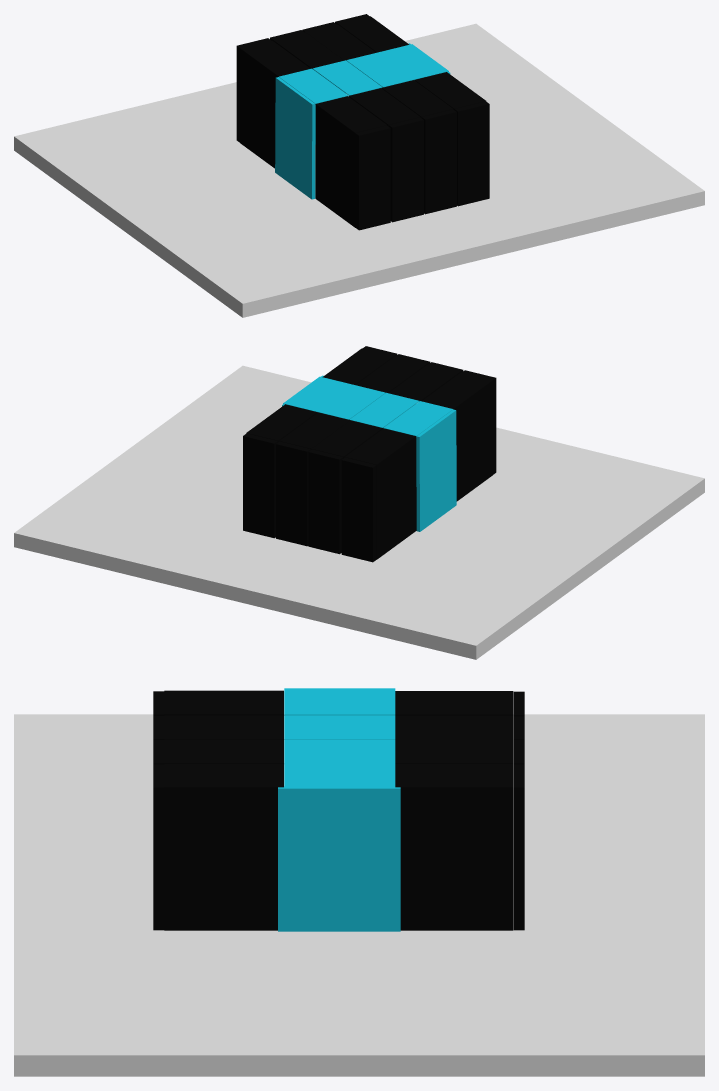
Rendered from testBlender2.glb.
The picture shows the model from 3 angles, top to bottom: view 1: azimuth 30°, elevation 25°; view 2: azimuth 150°, elevation 25°; view 3: azimuth 270°, elevation 25°; orthographic projection. The views are drawn at different scales.
Visible parts, largest first — view 1: Cube.001, rack.007, rack.004, door.001, back_rack.007, back_rack.006, back_rack.005, back_rack.001, rack.006, rack.005, rack.001, rack.003 (+7 smaller); view 2: Cube.001, rack.004, rack.007, door.001, back_rack.004, back_rack.003, back_rack, back_rack.002, rack.003, rack.006, rack, rack.005 (+7 smaller); view 3: Cube.001, rack.001, rack, door, rack.007, roof.003, rack.005, rack.006, rack.002, rack.004, rack.003, roof (+4 smaller).
Boxes of the visible parts, x1,y1,x2,y2 form: Cube.001: (14,23,704,317); rack.007: (315,96,387,227); rack.004: (240,40,310,168); door.001: (275,77,315,199); back_rack.007: (355,125,390,230); back_rack.006: (388,117,423,222); back_rack.005: (421,109,456,214); back_rack.001: (454,101,489,206); rack.006: (349,88,420,126); rack.005: (381,80,453,117); rack.001: (414,72,485,109); rack.003: (273,32,343,68); Cube.001: (14,365,704,659); rack.004: (345,428,416,559); rack.007: (422,372,492,501); door.001: (416,409,456,531); back_rack.004: (341,457,376,562); back_rack.003: (308,449,343,554); back_rack: (243,433,278,538); back_rack.002: (276,441,310,546); rack.003: (312,420,383,458); rack.006: (388,364,459,401); rack: (246,404,317,441); rack.005: (355,356,426,392); Cube.001: (14,714,704,1076); rack.001: (164,763,283,930); rack: (395,763,513,930); door: (278,786,400,931); rack.007: (164,690,283,715); roof.003: (284,764,395,790); rack.005: (164,739,283,763); rack.006: (164,715,283,739); rack.002: (395,739,513,763); rack.004: (395,691,513,715); rack.003: (395,715,513,739); roof: (284,690,395,715).
Size of the model in its own units: 11.08 by 2.5 by 9.5.
